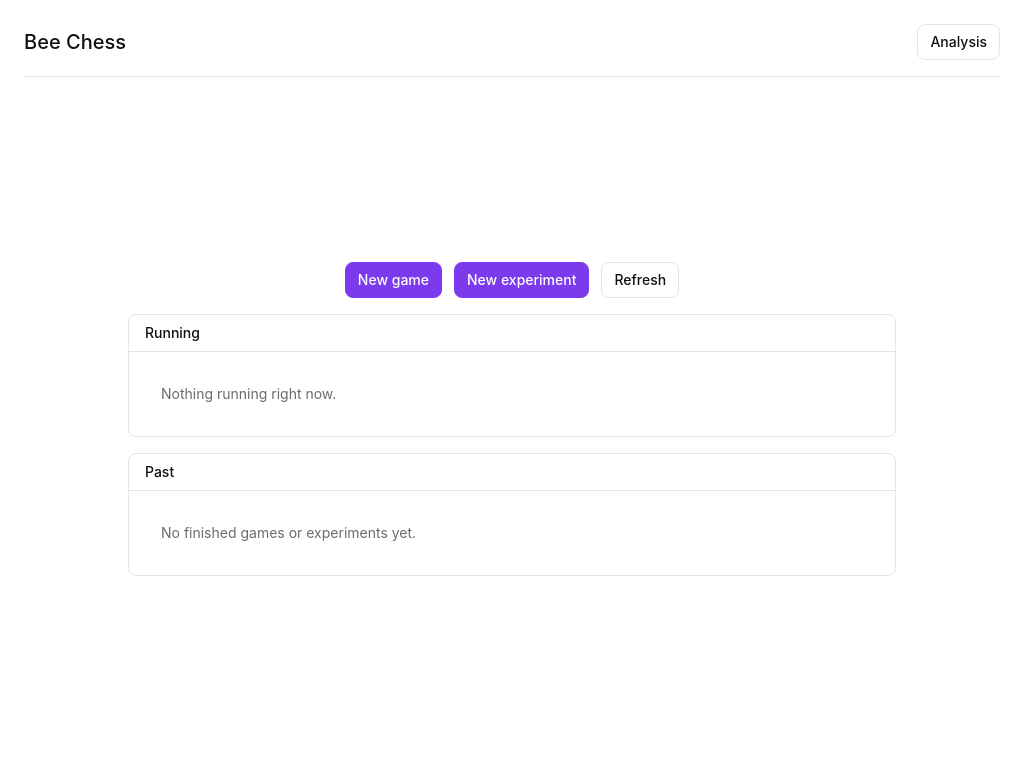
Test case: App navigation history › clicking the Bee Chess title returns to the dashboard from anywhere
Check: the text "Nothing running right now." is shown, box [161,384,336,402]
Click the button "New experiment": (522, 280) [454,262,589,298]
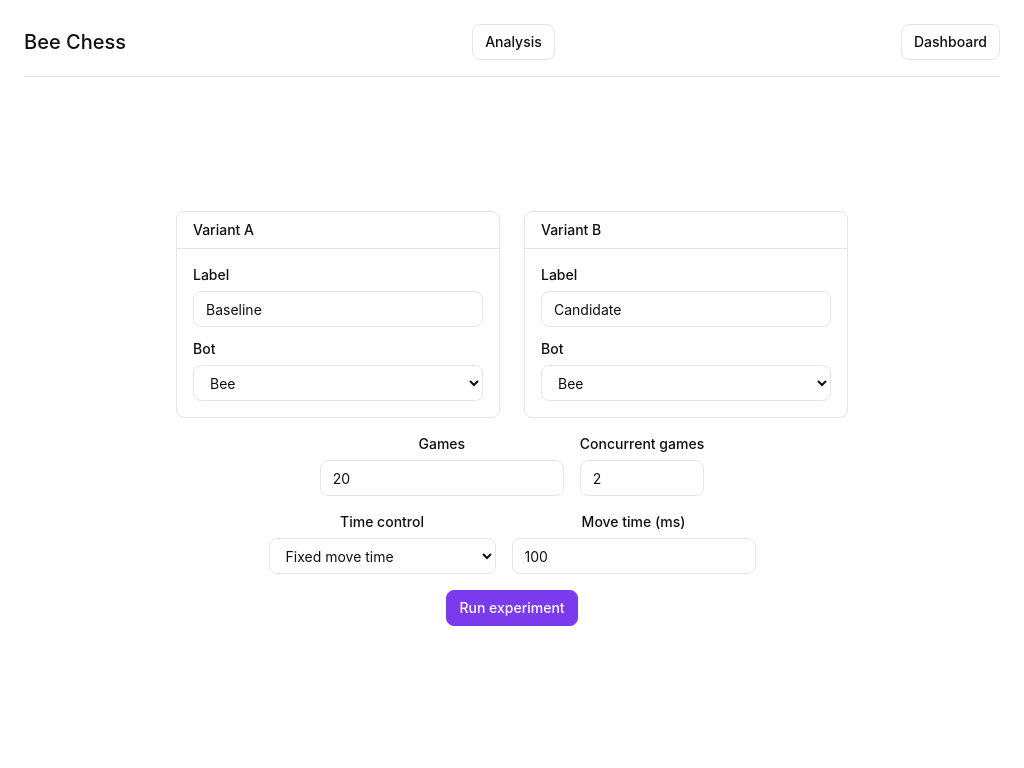
Check: the button "Run experiment" is shown, box [446,590,578,626]
Click the button "Bee Chess": (75, 42) [24,28,126,56]
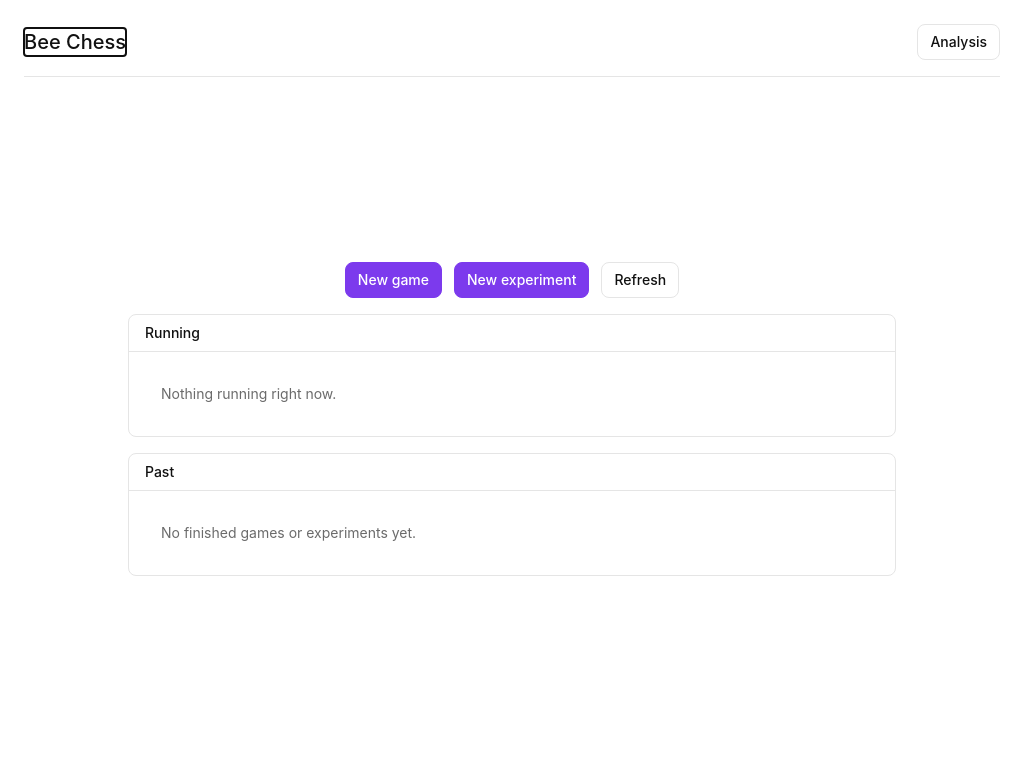
Check: the text "Nothing running right now." is shown, box [161,384,336,402]
